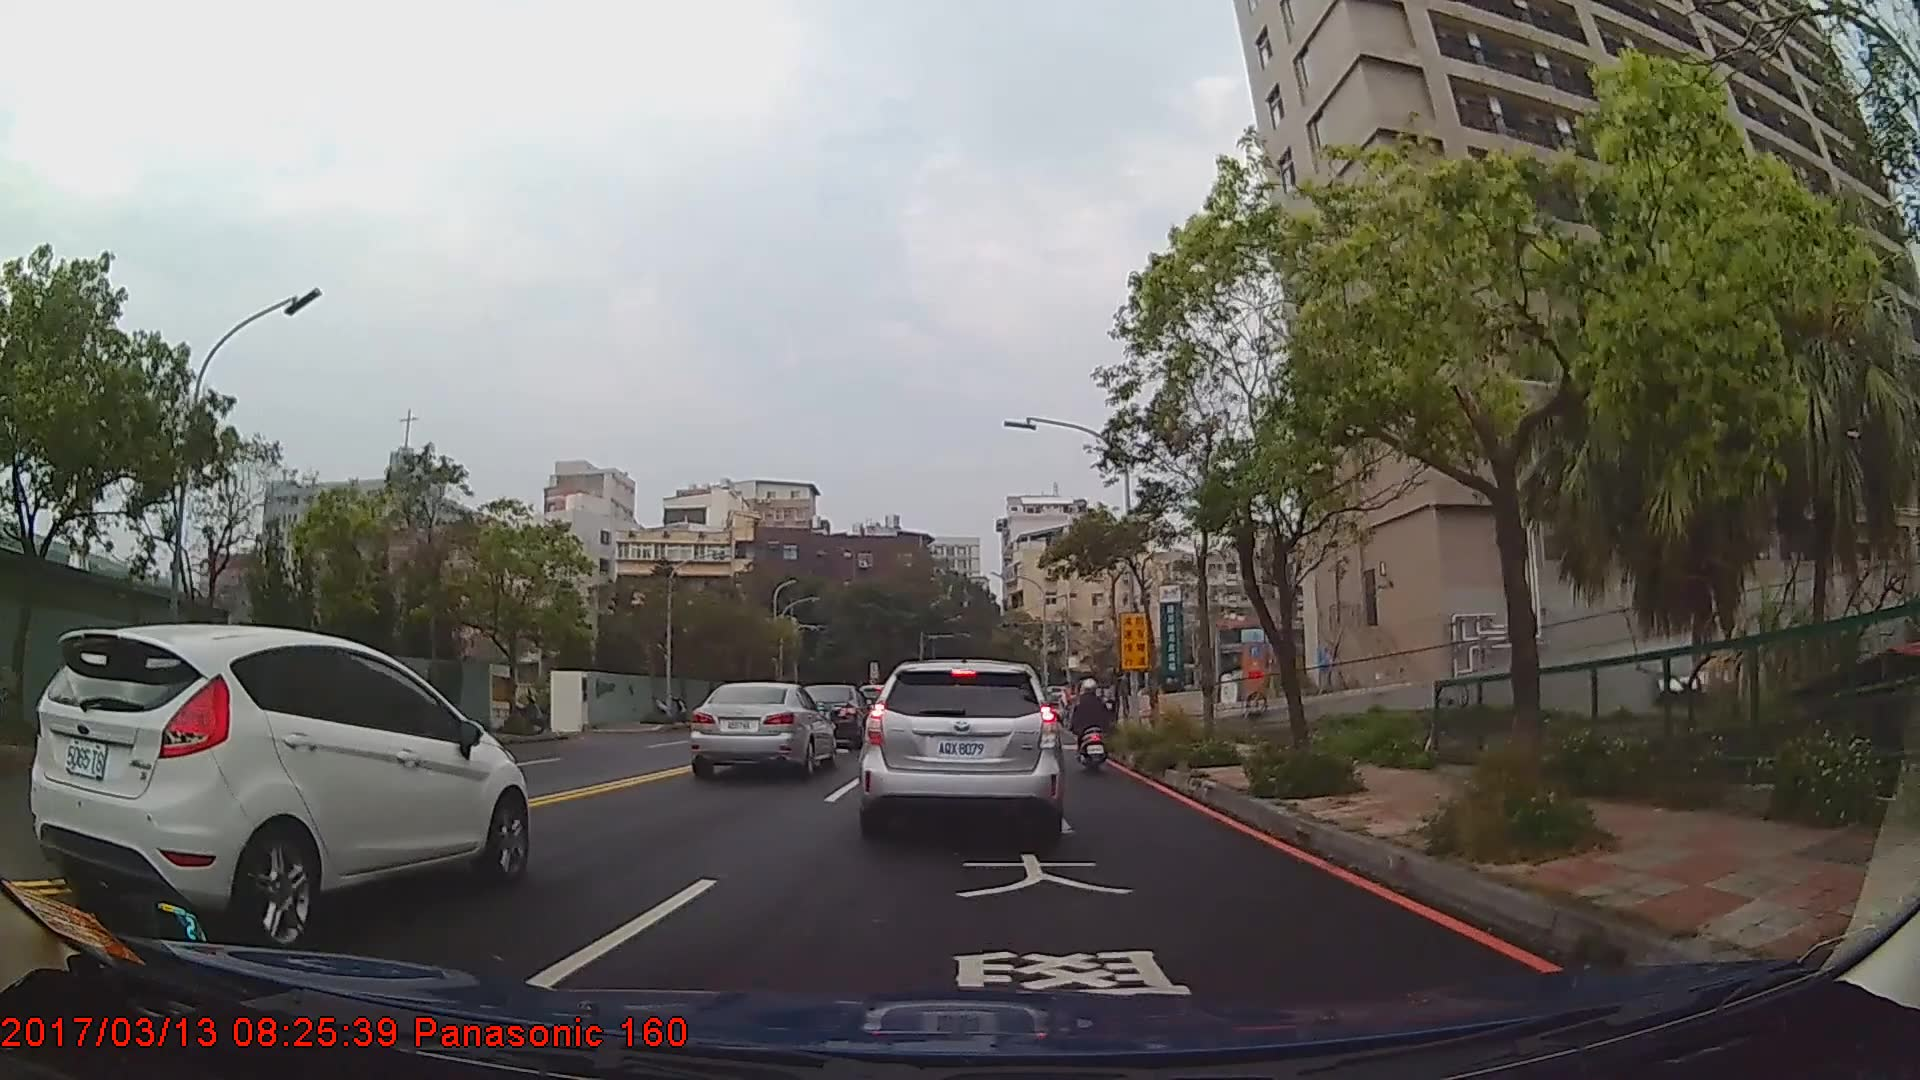rider: (1072, 679, 1114, 780)
vehicle: (28, 624, 529, 950), (857, 658, 1063, 838), (684, 680, 835, 780), (792, 683, 870, 747)
